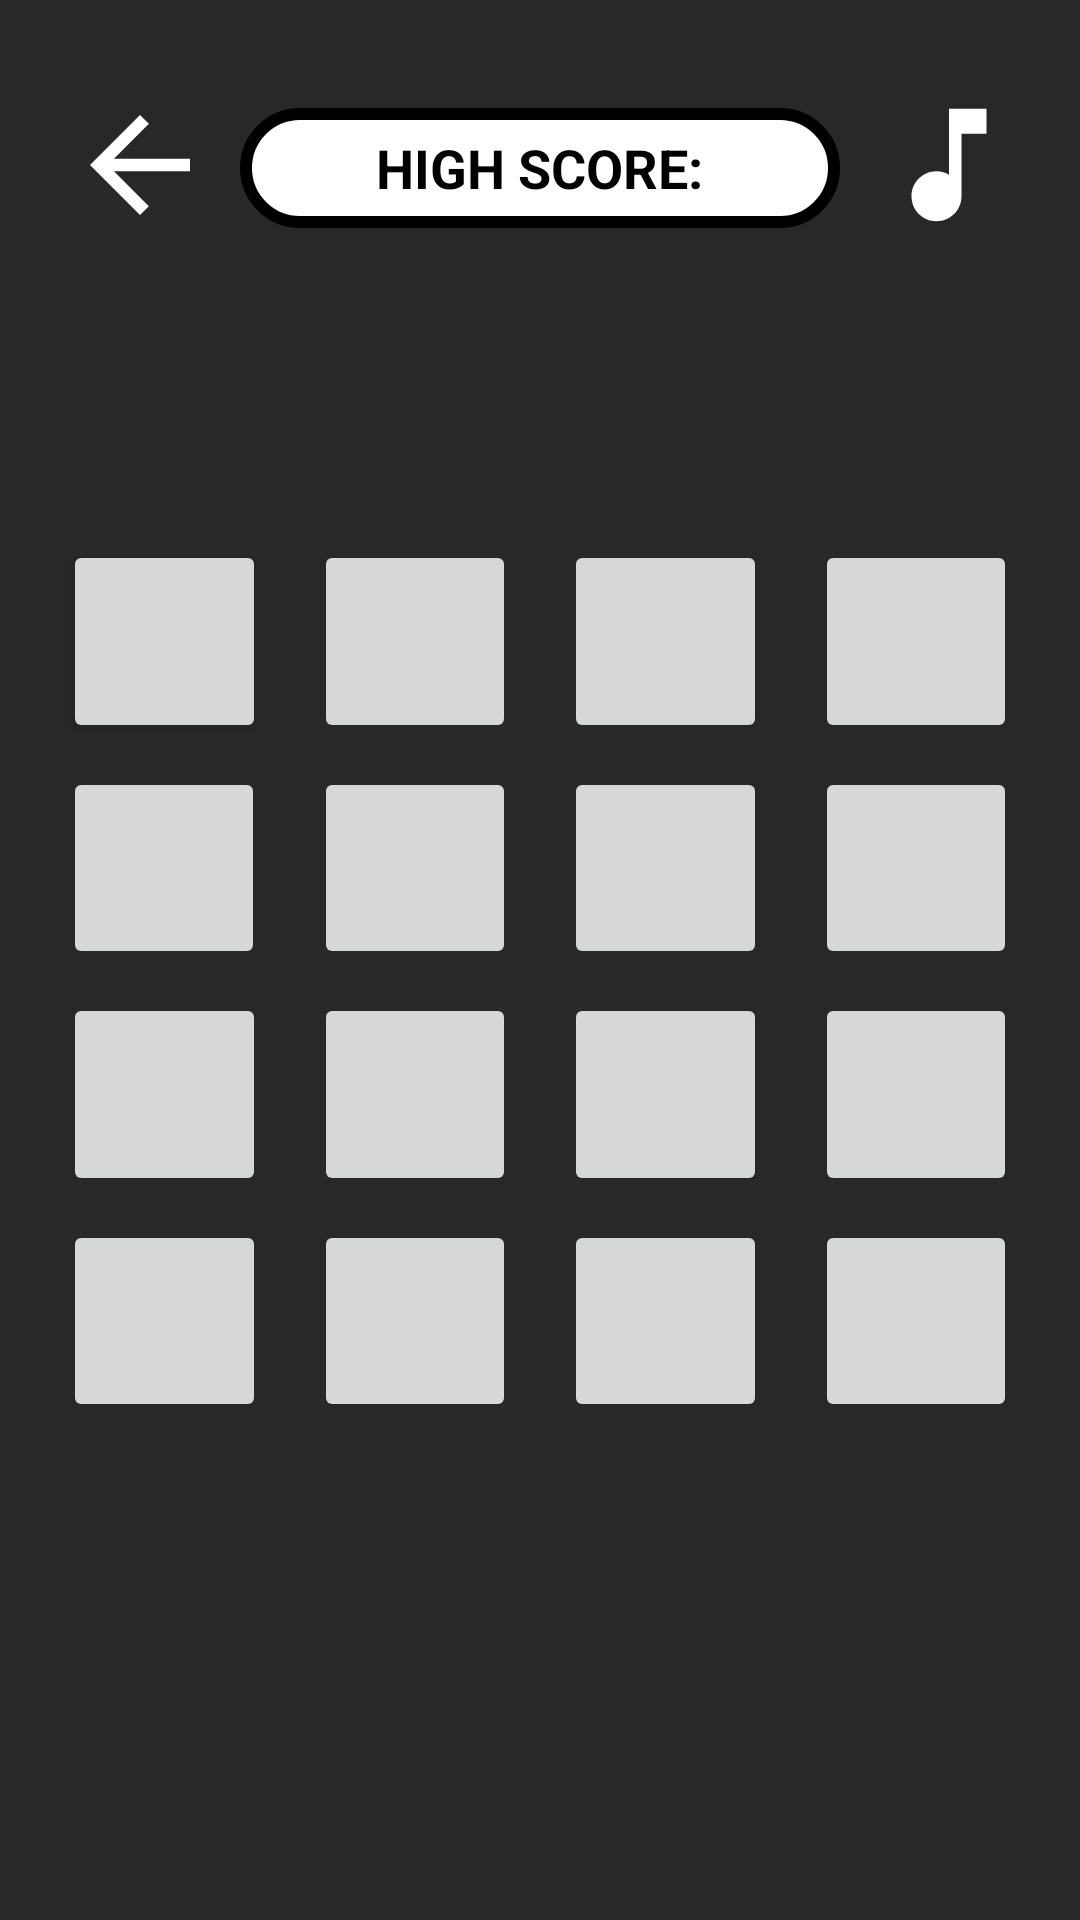

Point at icon controls on the screen. Image size 1080px x 1920px, points as [x,y].
arrow back: [140,165]
